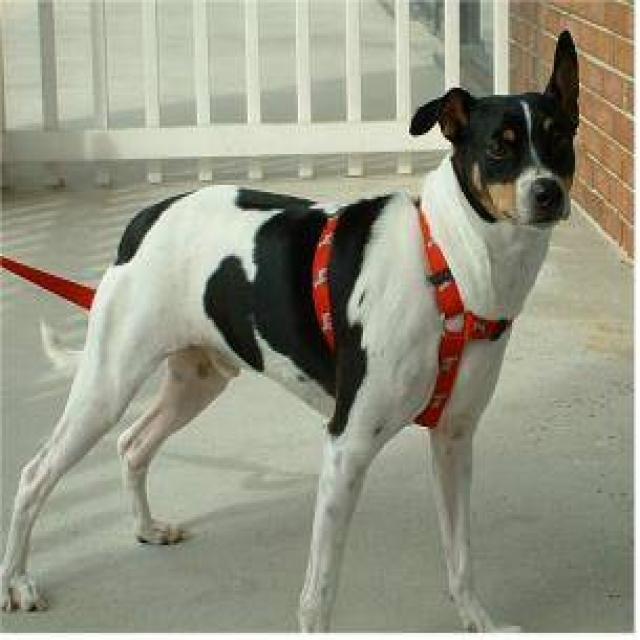dog: (0, 29, 581, 630)
